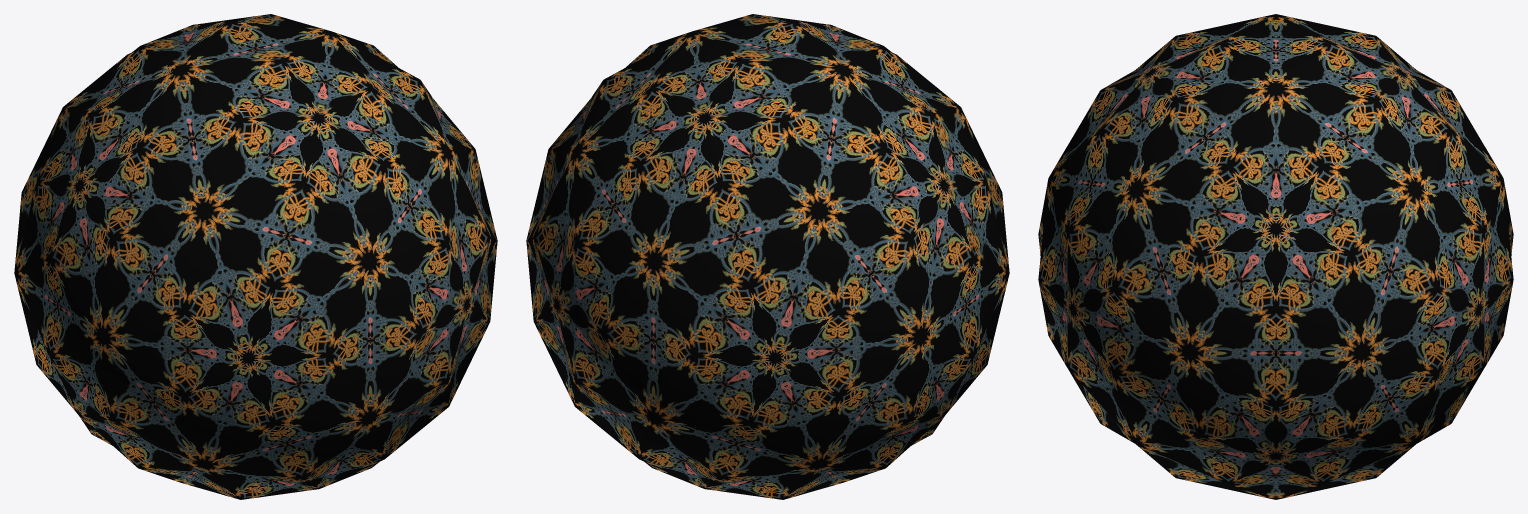
File: SmallHexagonalHexecontahedron.gltf
The picture shows the model from 3 angles, left to right: view 1: azimuth 30°, elevation 25°; view 2: azimuth 150°, elevation 25°; view 3: azimuth 270°, elevation 25°; orthographic projection.
Parts seen in each view (by area): view 1: SmallHexagonalHexecontahedron; view 2: SmallHexagonalHexecontahedron; view 3: SmallHexagonalHexecontahedron.
Boxes of the visible parts, bbox=[...] form: SmallHexagonalHexecontahedron: bbox=[14, 14, 497, 499]; SmallHexagonalHexecontahedron: bbox=[526, 14, 1009, 499]; SmallHexagonalHexecontahedron: bbox=[1038, 14, 1513, 499].
Bounding box in the file's own units: 2.73 × 2.73 × 2.73.
1 material, 1 textured.
